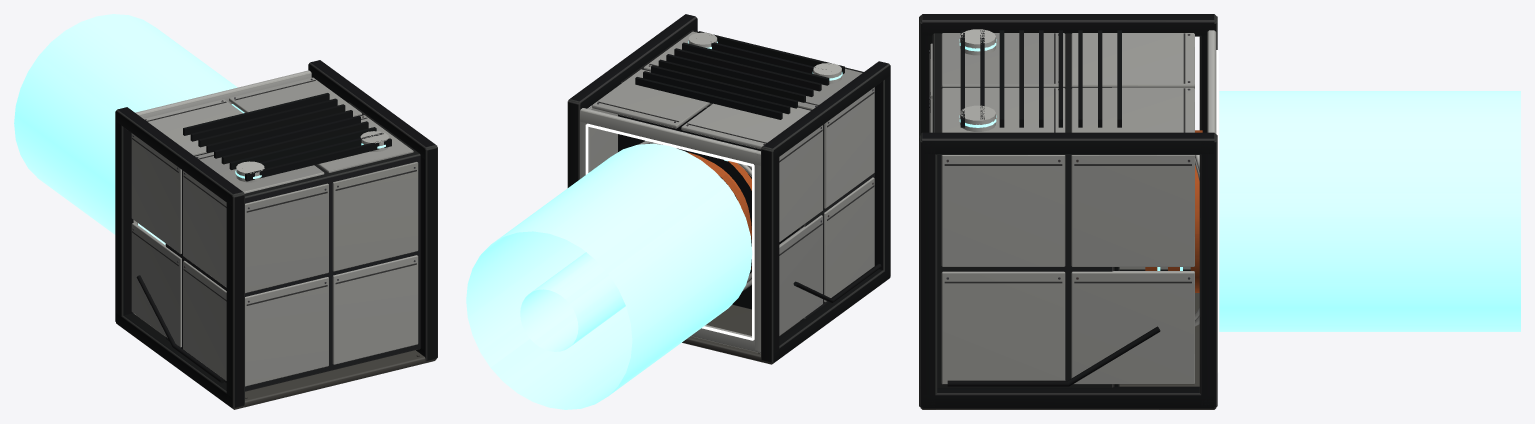
Rendered from zeropoint_projector.glb.
The picture shows the model from 3 angles, left to right: view 1: azimuth 30°, elevation 25°; view 2: azimuth 150°, elevation 25°; view 3: azimuth 270°, elevation 25°; orthographic projection. The views are drawn at different scales.
Visible parts, largest first — view 1: Frame, Field; view 2: Frame, Field; view 3: Frame, Field.
Boxes of the visible parts, x1,y1,x2,y2 form: Frame: (115,60,437,409); Field: (14,14,244,244); Frame: (567,14,890,364); Field: (466,143,752,409); Frame: (919,14,1218,409); Field: (1219,91,1520,331).
Bounding box in the file's own units: 2.01 × 2 × 3.99.
